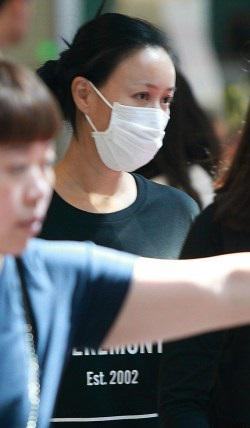NONE: (1, 143, 63, 254)
OK: (95, 77, 180, 162)
